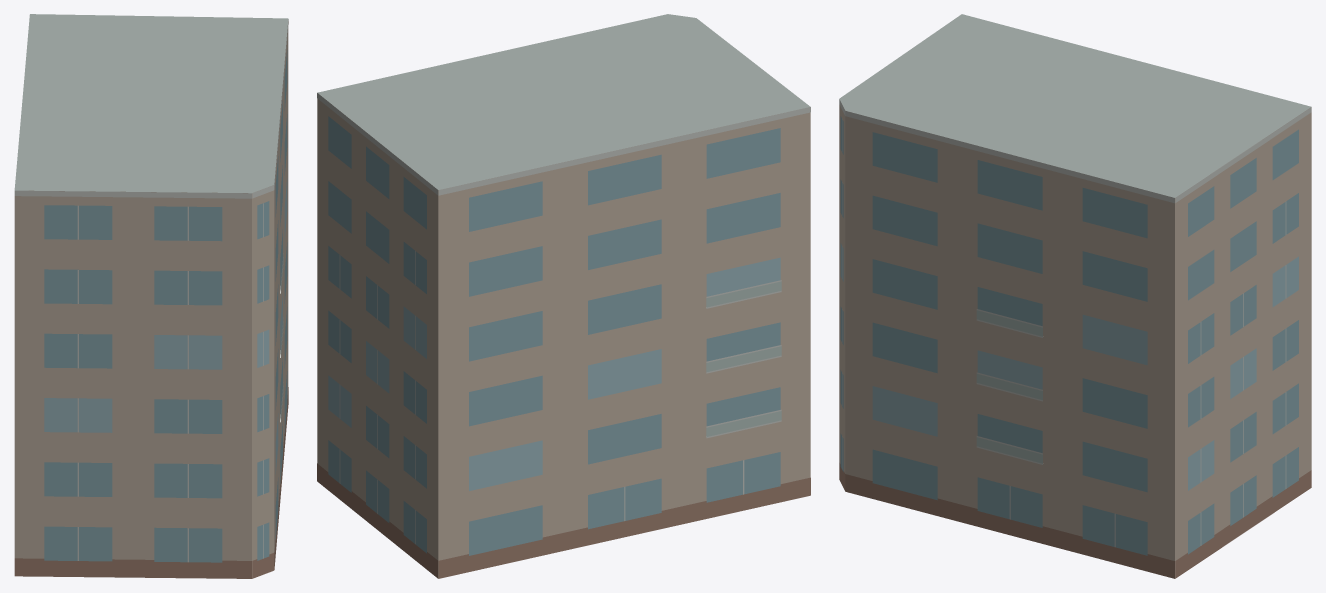
File: survey-upis-32903956.glb
3 views of the same model, side by side, from view 1: azimuth 30°, elevation 25°; view 2: azimuth 150°, elevation 25°; view 3: azimuth 270°, elevation 25° (orthographic). The views are drawn at different scales.
Parts seen in each view (by area): view 1: survey-upis-32903956.tmp; view 2: survey-upis-32903956.tmp; view 3: survey-upis-32903956.tmp.
Part boxes in pixels (x1,y1,x2,y2): survey-upis-32903956.tmp: (14,14,288,578); survey-upis-32903956.tmp: (317,14,810,578); survey-upis-32903956.tmp: (839,14,1311,578).
Bounding box in the file's own units: 17.72 × 17.1 × 19.22.
